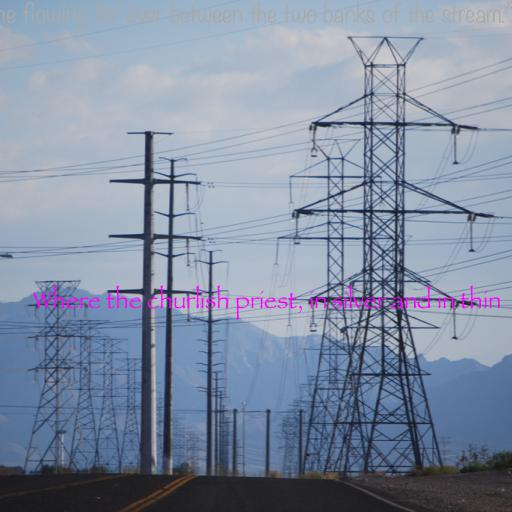Noteworthy: (0, 1, 512, 30)
Papyrus: (33, 285, 501, 320)
